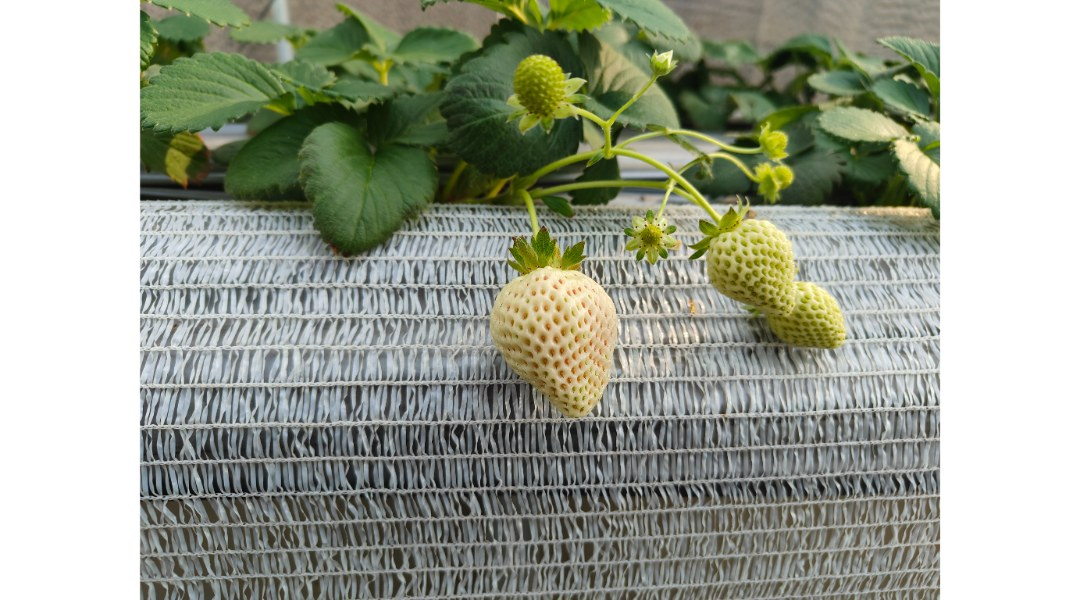berry: (488, 222, 624, 429), (684, 199, 812, 324), (759, 265, 861, 362), (500, 47, 581, 131), (631, 206, 685, 262), (750, 158, 795, 219), (748, 111, 792, 166), (627, 42, 687, 78)
strain: (514, 187, 554, 257), (543, 175, 666, 192), (680, 178, 722, 224), (614, 79, 650, 120), (599, 127, 614, 147)
